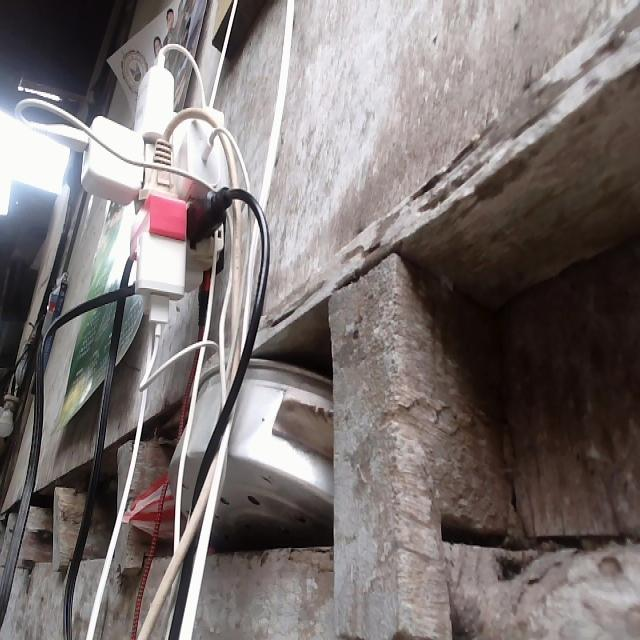-: (69, 53, 239, 335)
